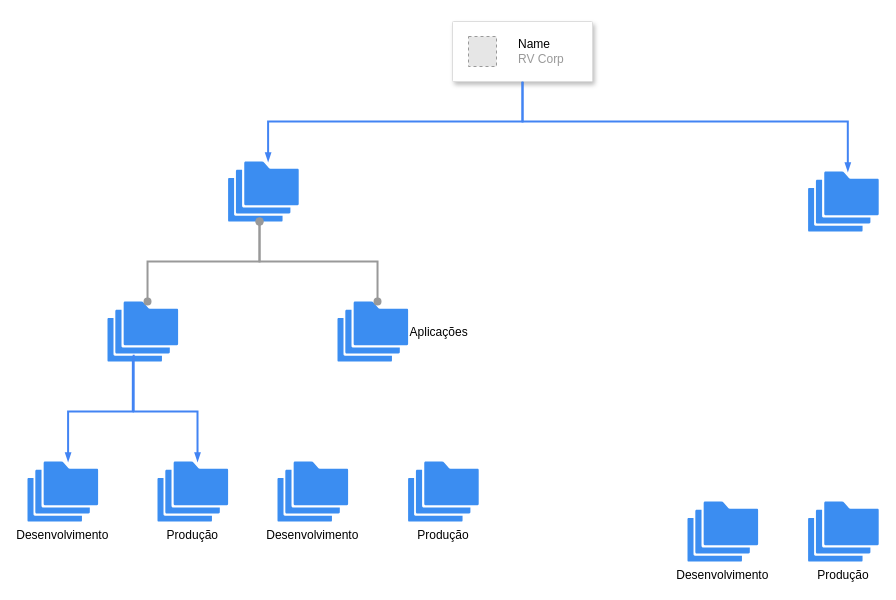
Some shapes in this 896 by 600 pixel diagram are drawn without their labels. Grey dashed boxes stand in for pictures. Each missing label, with the centre of its shape:
Infraestrutura: pixel 142 331
Tecnologia: pixel 263 191
Vendas: pixel 843 201
